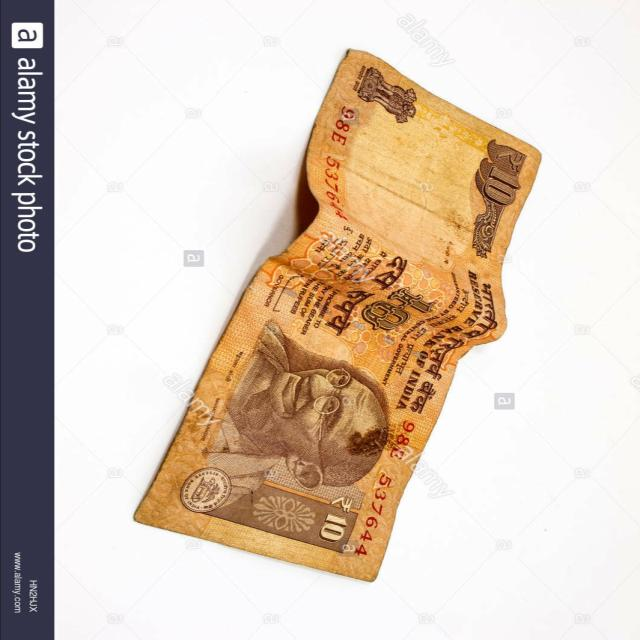10IndianRupees: (139, 48, 542, 584)
